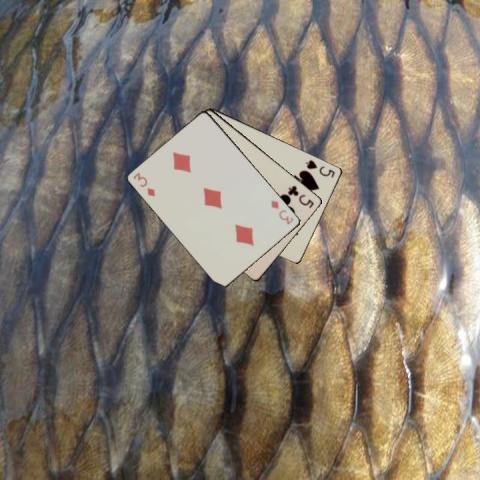3d: (268, 197, 295, 226), (130, 169, 156, 198)
5c: (286, 183, 316, 210)
5s: (302, 156, 336, 178)
